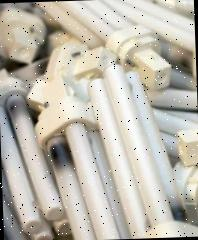lightbulb: (0, 0, 198, 240), (0, 5, 47, 64), (130, 219, 198, 238)
